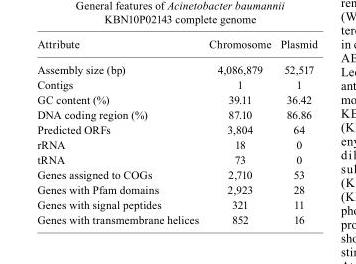table: (36, 37, 316, 225)
table column: (36, 37, 203, 225), (203, 37, 275, 225), (275, 37, 316, 225)
table column header: (36, 37, 316, 56)
table row: (36, 56, 316, 76), (36, 37, 316, 56), (36, 76, 316, 91), (36, 91, 316, 106), (36, 106, 316, 121), (36, 121, 316, 136), (36, 136, 316, 151), (36, 151, 316, 166), (36, 166, 316, 181), (36, 181, 316, 196), (36, 196, 316, 211), (36, 211, 316, 225)
